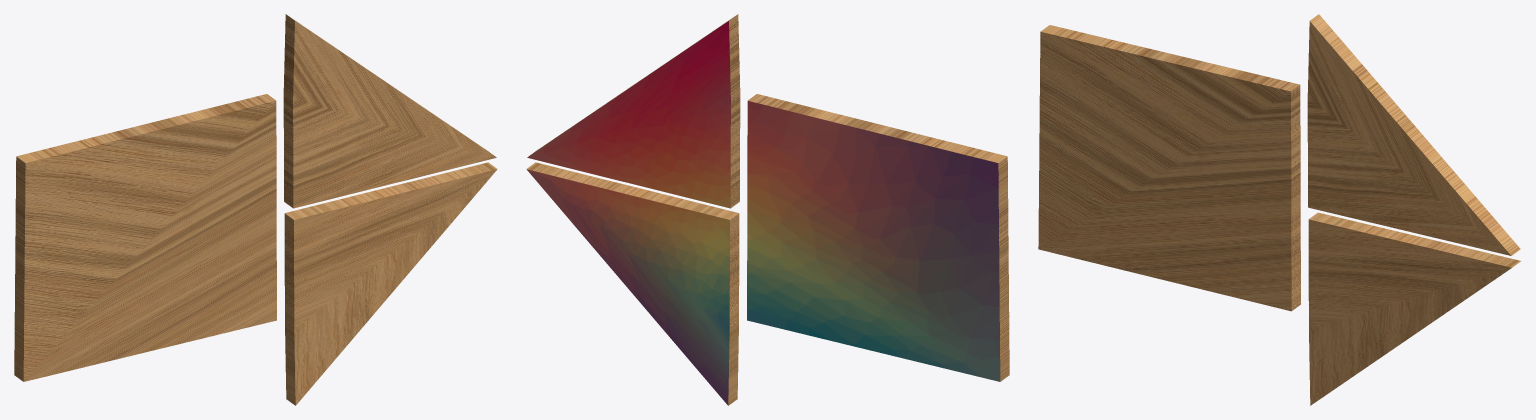
The model's file is piece_arrow3.fbx.
3 views of the same model, side by side, from view 1: azimuth 30°, elevation 25°; view 2: azimuth 150°, elevation 25°; view 3: azimuth 330°, elevation 25° (orthographic).
Parts seen in each view (by area): view 1: piece_arrow1, piece_arrow3, piece_arrow2; view 2: piece_arrow1, piece_arrow3, piece_arrow2; view 3: piece_arrow1, piece_arrow2, piece_arrow3.
Boxes of the visible parts, x1,y1,x2,y2 form: piece_arrow1: (14, 94, 276, 381); piece_arrow3: (284, 162, 497, 405); piece_arrow2: (283, 14, 496, 208); piece_arrow1: (747, 94, 1009, 381); piece_arrow3: (526, 162, 739, 405); piece_arrow2: (527, 14, 740, 208); piece_arrow1: (1038, 25, 1300, 311); piece_arrow2: (1307, 14, 1520, 255); piece_arrow3: (1308, 212, 1520, 405).
Bounding box in the file's own units: 234 × 182 × 8.
2 materials, 2 textured.
